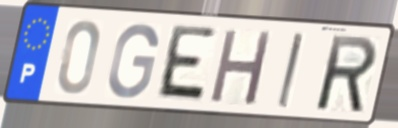0: (55, 18, 102, 97)
E: (152, 22, 220, 106)
G: (105, 21, 161, 101)
H: (207, 26, 276, 108)
I: (274, 30, 306, 111)
R: (315, 33, 379, 116)
